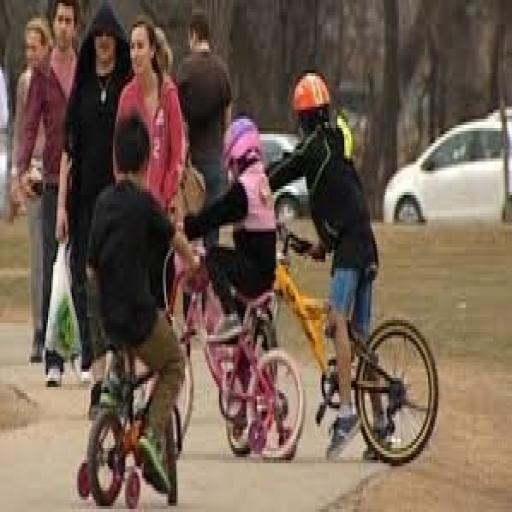cycling: (266, 67, 396, 463), (82, 113, 202, 497)
